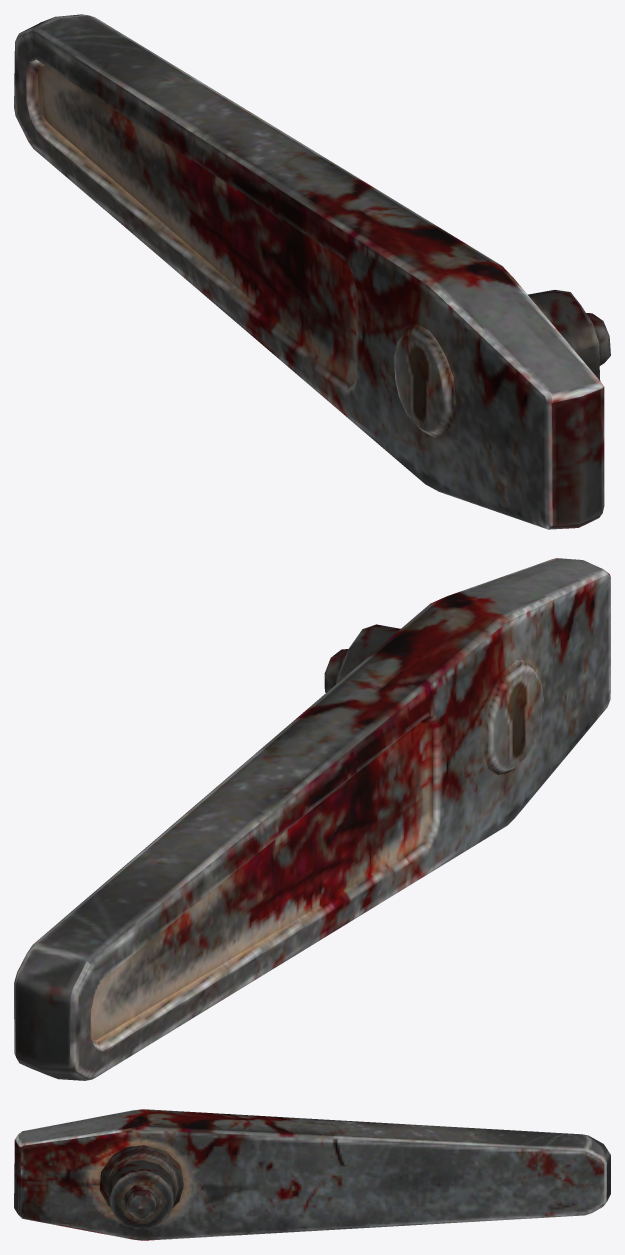
Rendered from plane_wreckage_door_handle_left.dae.
The picture shows the model from 3 angles, top to bottom: view 1: azimuth 30°, elevation 25°; view 2: azimuth 150°, elevation 25°; view 3: azimuth 270°, elevation 25°; orthographic projection. The views are drawn at different scales.
Visible parts, largest first — view 1: plane_wreckage_door_handle_left; view 2: plane_wreckage_door_handle_left; view 3: plane_wreckage_door_handle_left.
Part boxes in pixels (x1,y1,x2,y2): plane_wreckage_door_handle_left: (14, 14, 610, 529); plane_wreckage_door_handle_left: (14, 558, 610, 1080); plane_wreckage_door_handle_left: (14, 1109, 610, 1240).
Bounding box in the file's own units: 5.88 × 6.7 × 30.68.
